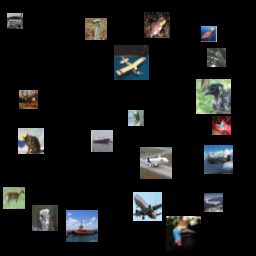airplane: (114, 45, 149, 80), (140, 147, 172, 179), (133, 192, 162, 221), (204, 145, 233, 174), (204, 193, 223, 212), (7, 13, 23, 29)
automobile: (212, 116, 231, 135)
bird: (166, 216, 201, 251), (196, 79, 231, 114), (32, 205, 58, 231), (85, 18, 107, 40), (207, 48, 226, 67)
cat: (18, 128, 44, 154), (128, 110, 144, 126)
deer: (3, 187, 25, 209), (19, 90, 38, 109)
frog: (144, 12, 170, 38)
ship: (66, 210, 98, 242), (91, 130, 113, 152), (201, 26, 217, 42)
